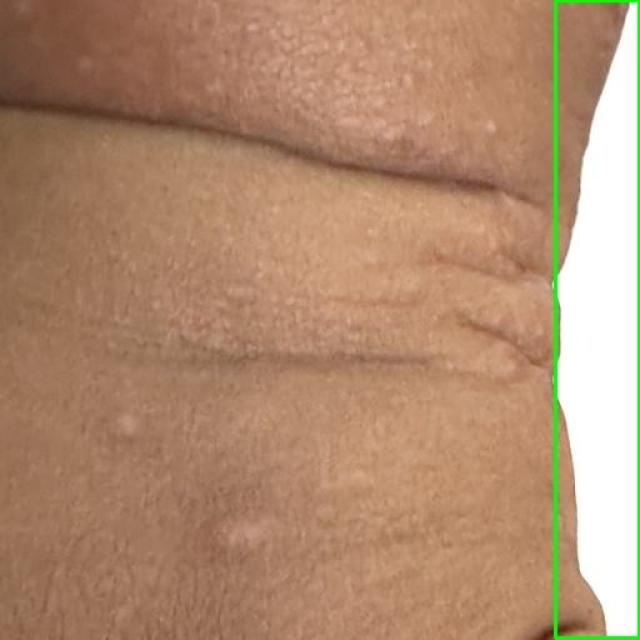Scabies: (555, 0, 639, 639)
